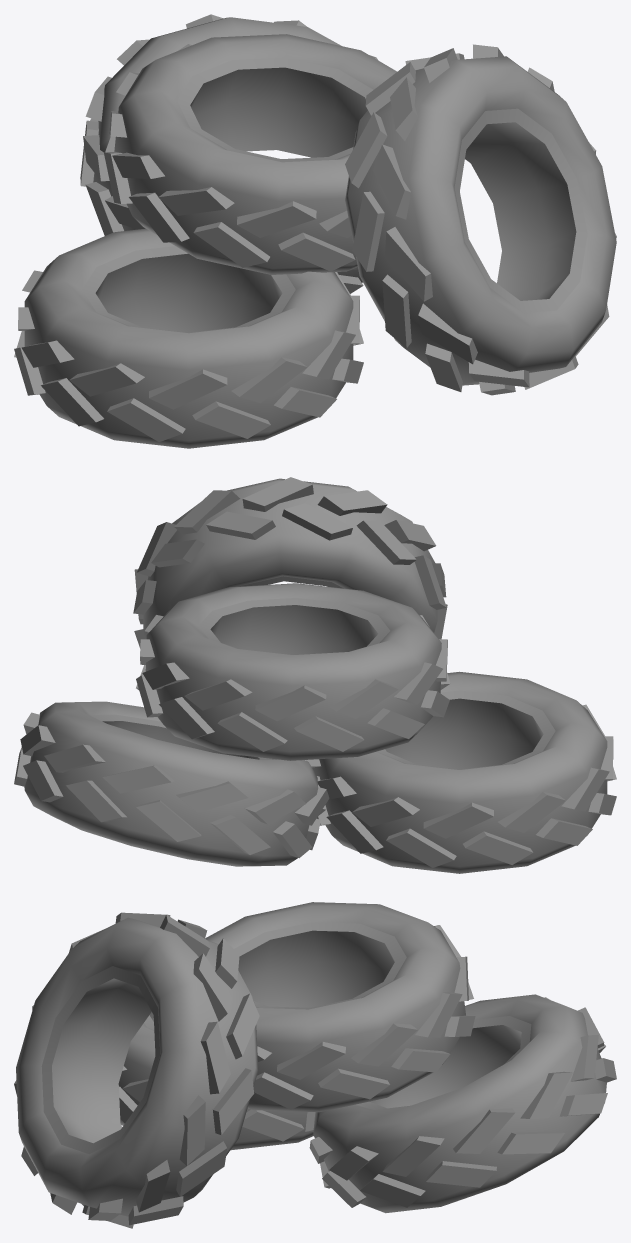
Rendered from sm_copertoni.fbx.
3 views of the same model, one above another, from view 1: azimuth 30°, elevation 25°; view 2: azimuth 150°, elevation 25°; view 3: azimuth 270°, elevation 25° (orthographic). The views are drawn at different scales.
Parts seen in each view (by area): view 1: copertoni; view 2: copertoni; view 3: copertoni.
Part boxes in pixels (x1,y1,x2,y2): copertoni: [14, 14, 616, 448]; copertoni: [14, 477, 616, 873]; copertoni: [14, 902, 616, 1228].
Size of the model in its own units: 191 by 106 by 207.
